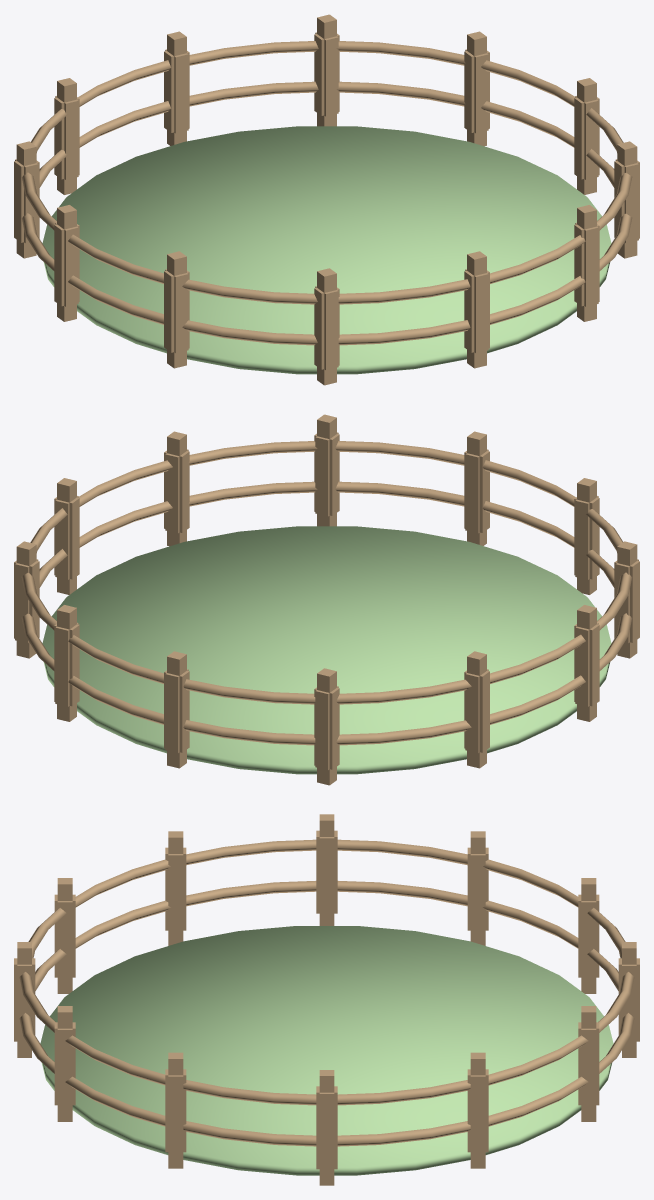
File: build_pet_pen.glb
3 renders of one model, top to bottom at view 1: azimuth 30°, elevation 25°; view 2: azimuth 150°, elevation 25°; view 3: azimuth 270°, elevation 25°, orthographic.
Visible parts, largest first — view 1: box; view 2: box; view 3: box.
Part boxes in pixels (<box>): box: <box>14,14,639,385</box>; box: <box>14,414,639,785</box>; box: <box>14,814,639,1185</box>.
Bounding box in the file's own units: 4.14 × 0.8 × 4.14.
